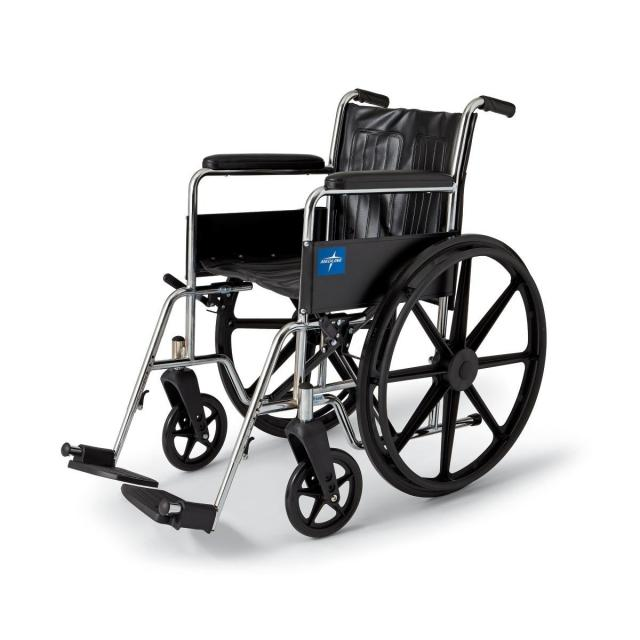wheelchair: (47, 66, 564, 543)
